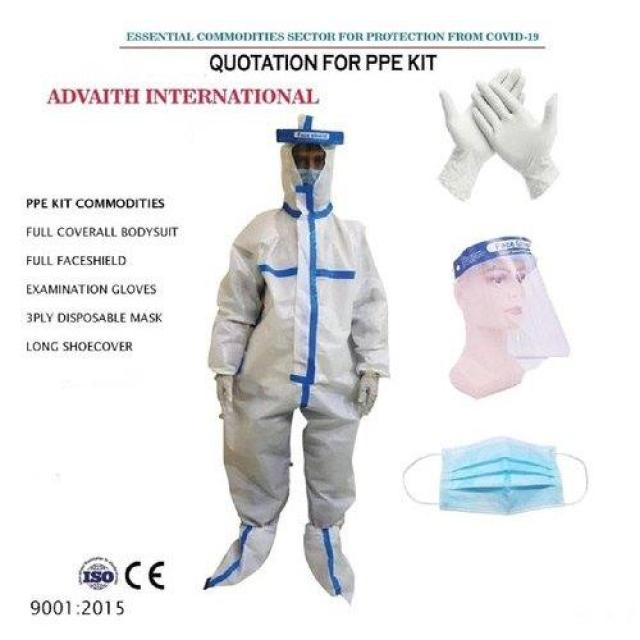Coverall: (200, 112, 393, 601)
Gloves: (438, 62, 568, 206), (355, 368, 380, 418), (214, 369, 233, 417)
Mask: (401, 433, 594, 531), (294, 169, 324, 186)
